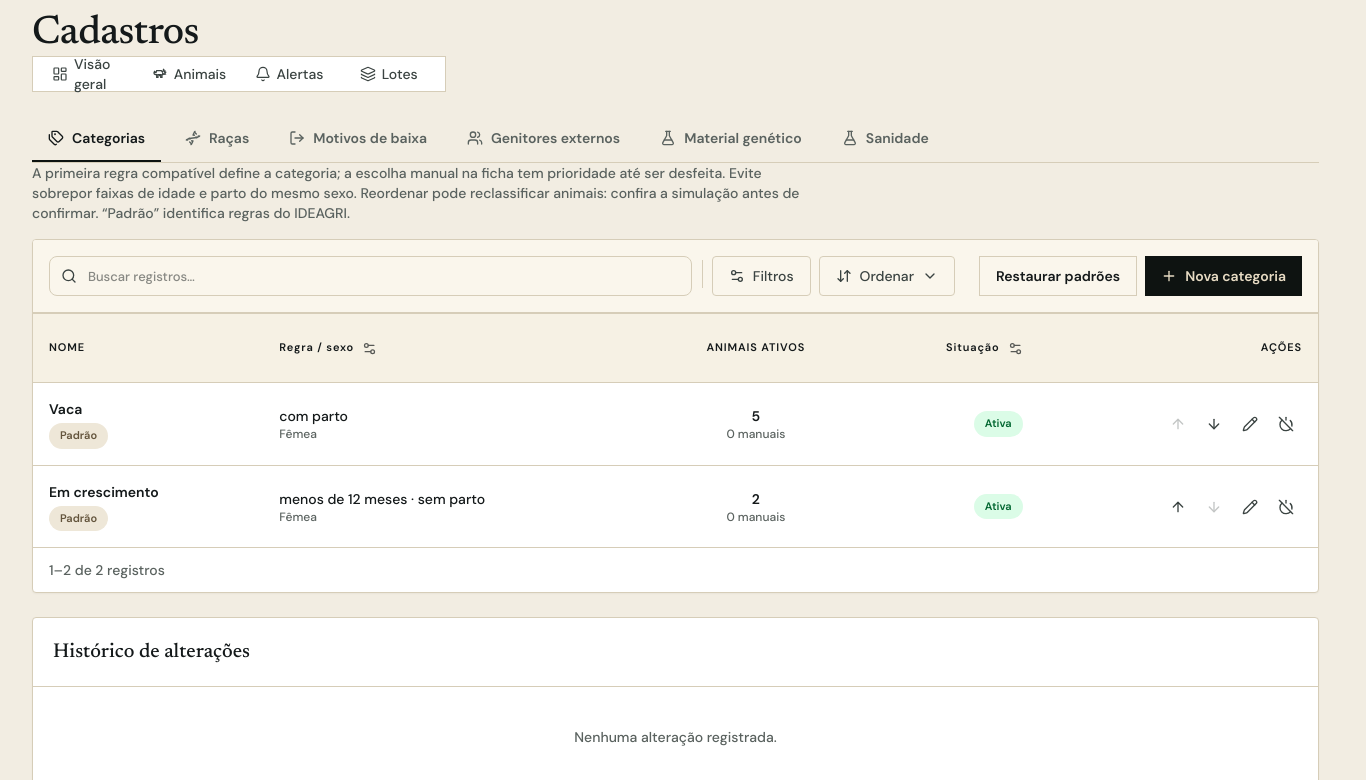
Cadastros do rebanho — raças › filtra raças por nome e sigla localmente sem alterar catálogo
The image size is (1366, 780).
Click the button "Raças" at x=217, y=139, box [169,116,265,162]
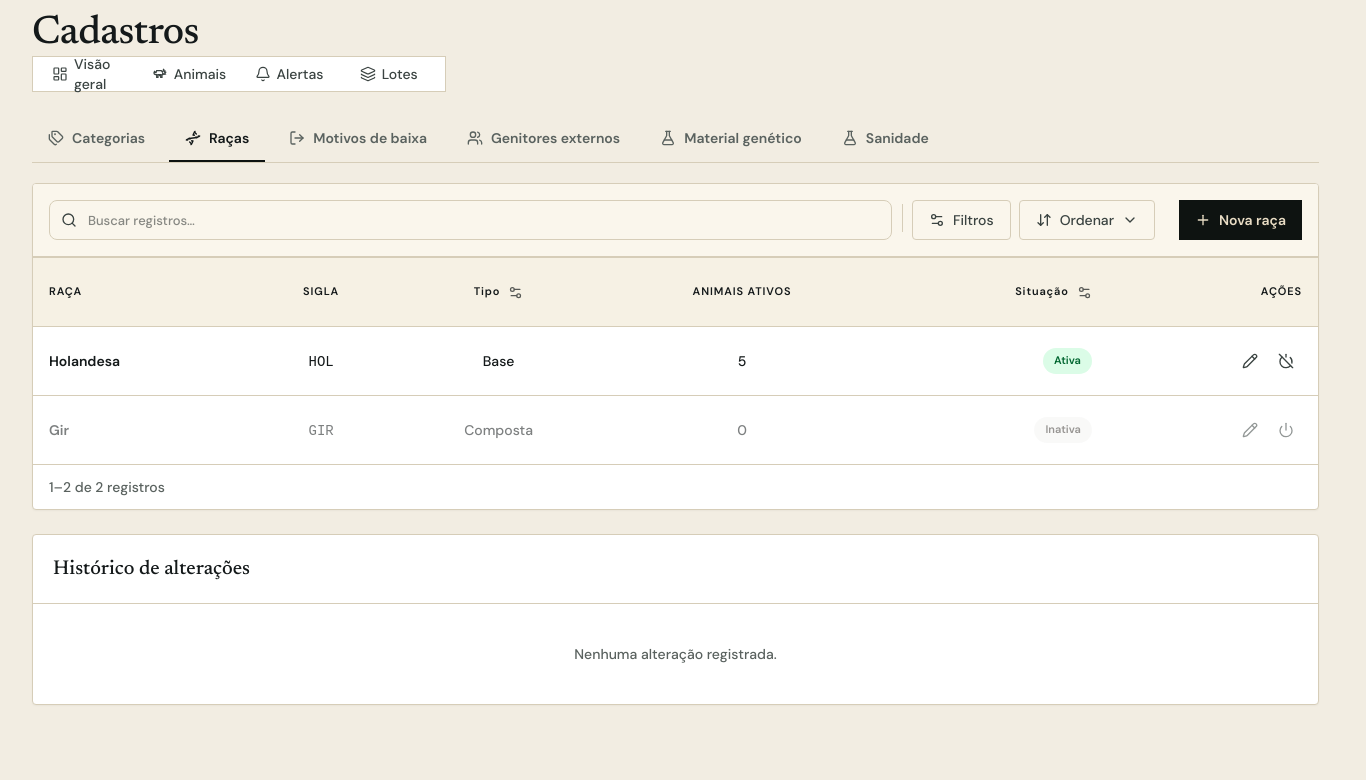
Type "hol" into the search field named "Buscar raças" at x=470, y=220, box [49,200,892,240]
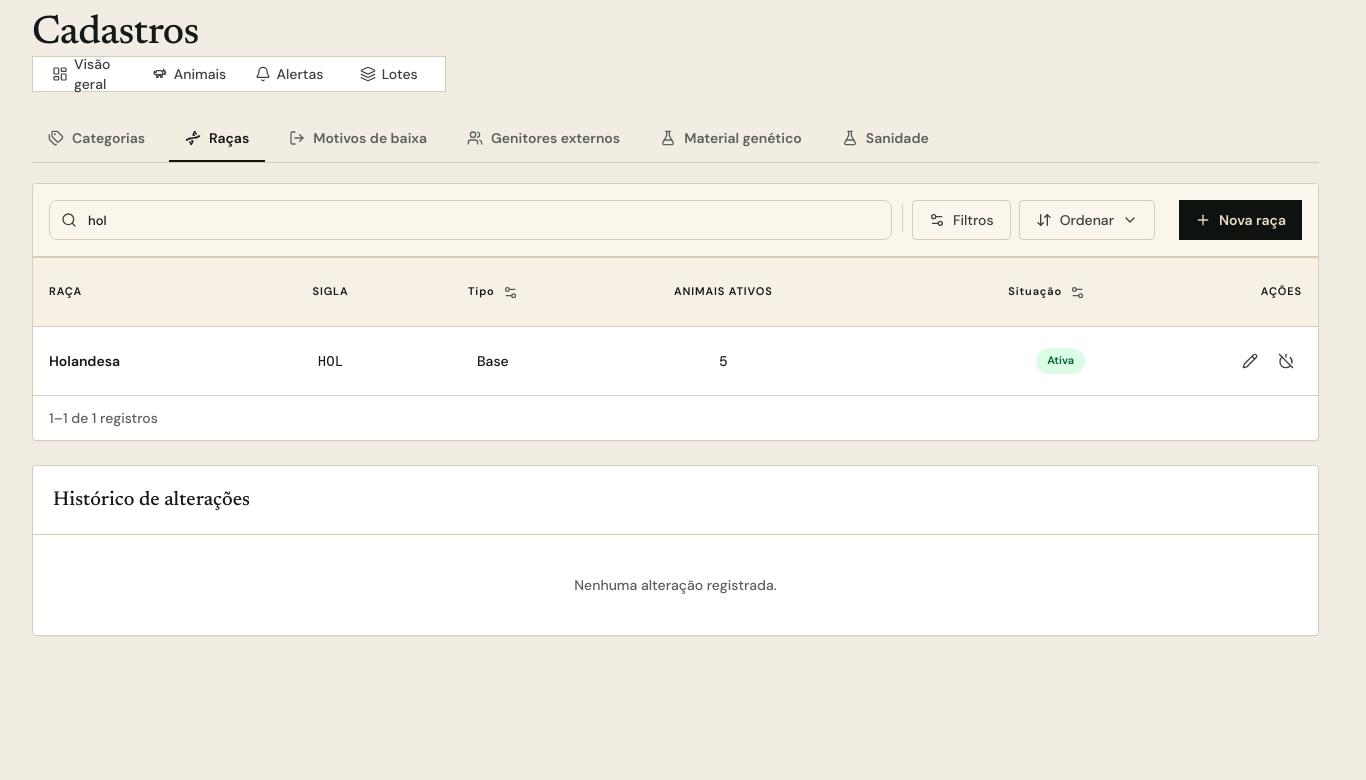
Now the text "Gir" is gone
Replace the text in the search field named "Buscar raças" with "inexistente" at x=470, y=220, box [49,200,892,240]
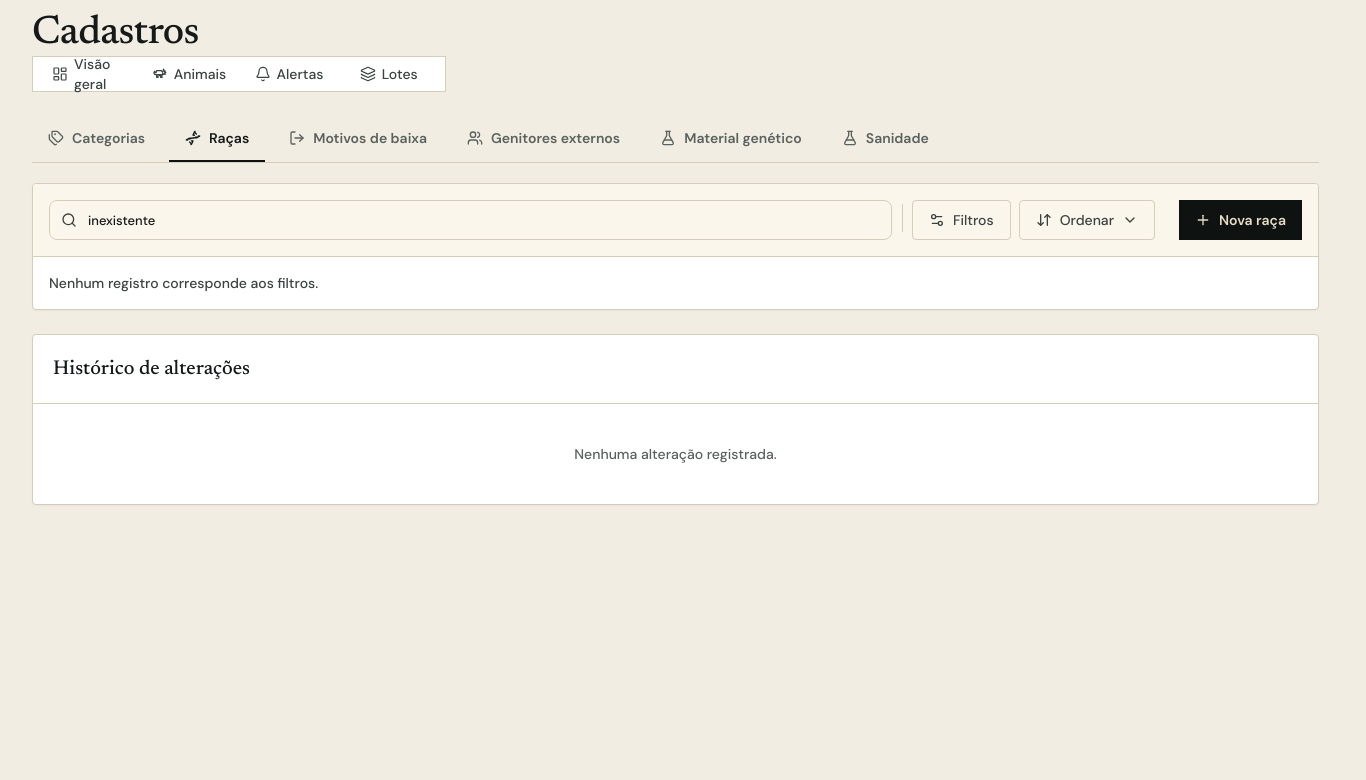
Now the text "Nenhum registro corresponde aos filtros." is shown, box [49,274,318,292]
Clear the search field named "Buscar raças" at x=470, y=220, box [49,200,892,240]
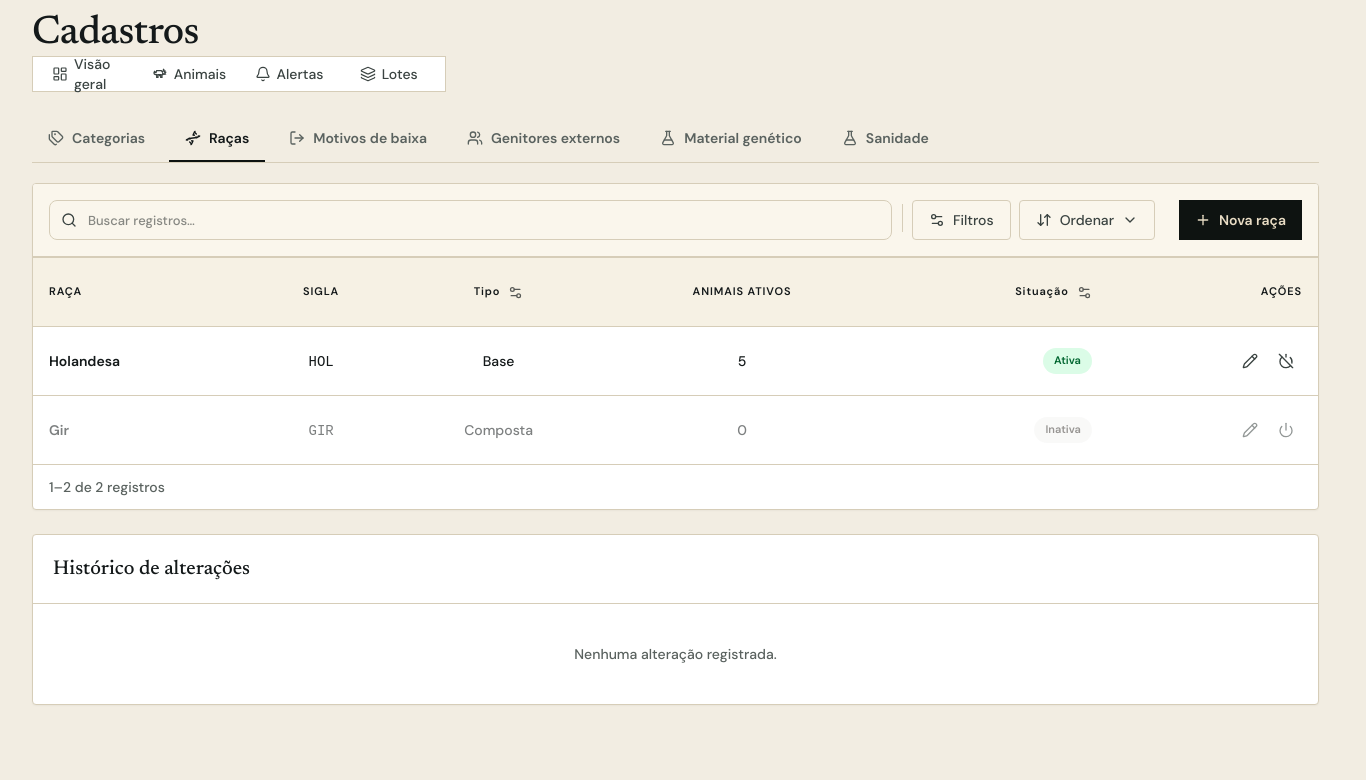
Now the text "Gir" is shown, box [49,421,69,439]
